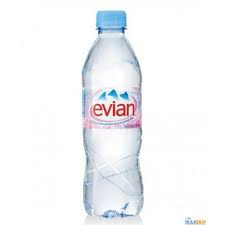Botella: (83, 11, 142, 216)
